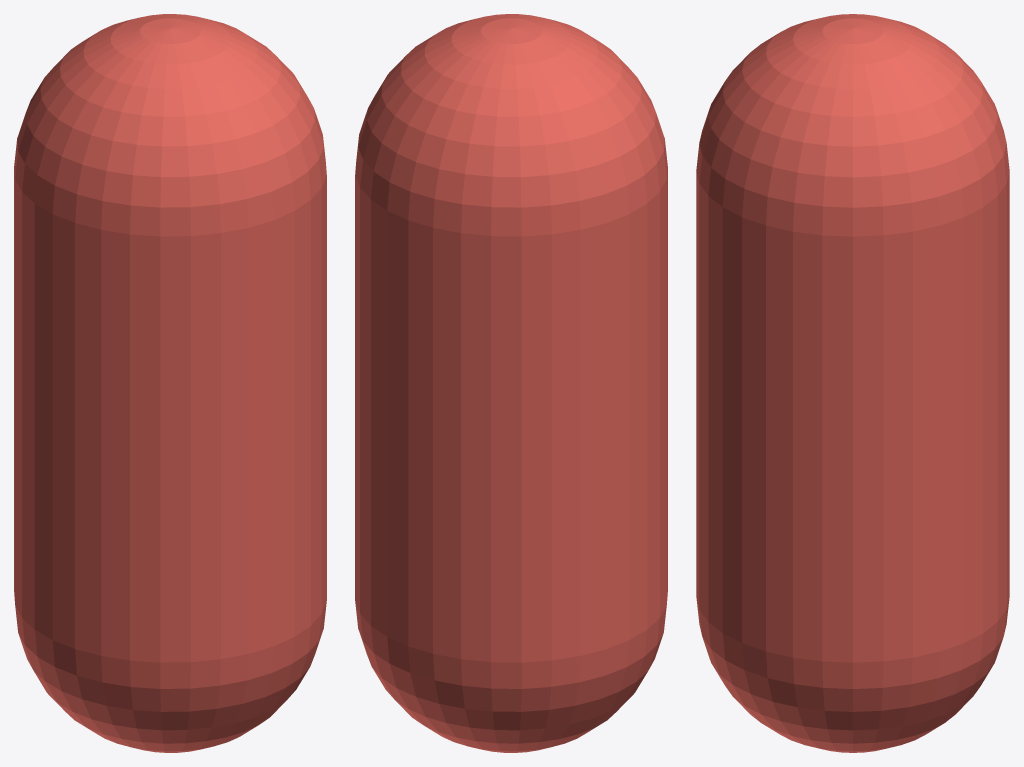
File: enemy.glb
3 renders of one model, left to right at view 1: azimuth 30°, elevation 25°; view 2: azimuth 150°, elevation 25°; view 3: azimuth 270°, elevation 25°, orthographic.
Parts seen in each view (by area): view 1: Enemy; view 2: Enemy; view 3: Enemy.
Boxes of the visible parts, x1,y1,x2,y2 form: Enemy: (14, 14, 326, 752); Enemy: (355, 14, 667, 752); Enemy: (696, 14, 1009, 752).
Bounding box in the file's own units: 0.8 × 2 × 0.8.
